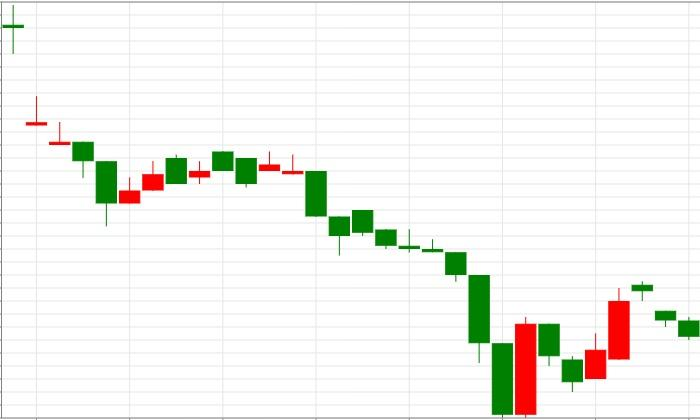bullish_engulfing_rise: (305, 171, 537, 418)
